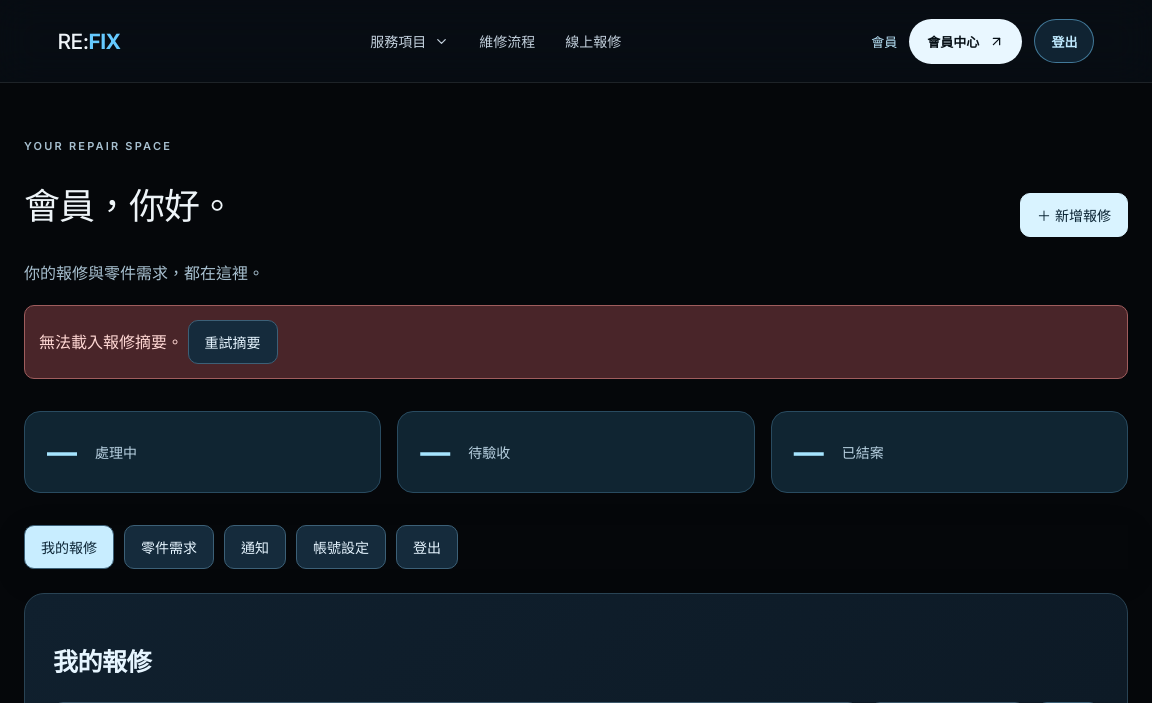
Test: shows a retry when summary loading fails and recovers without logging out
Expected: the text "無法載入報修摘要。" is shown, [39,332,183,352]
Click the button "重試摘要" at (232, 342), box [188,320,278,364]
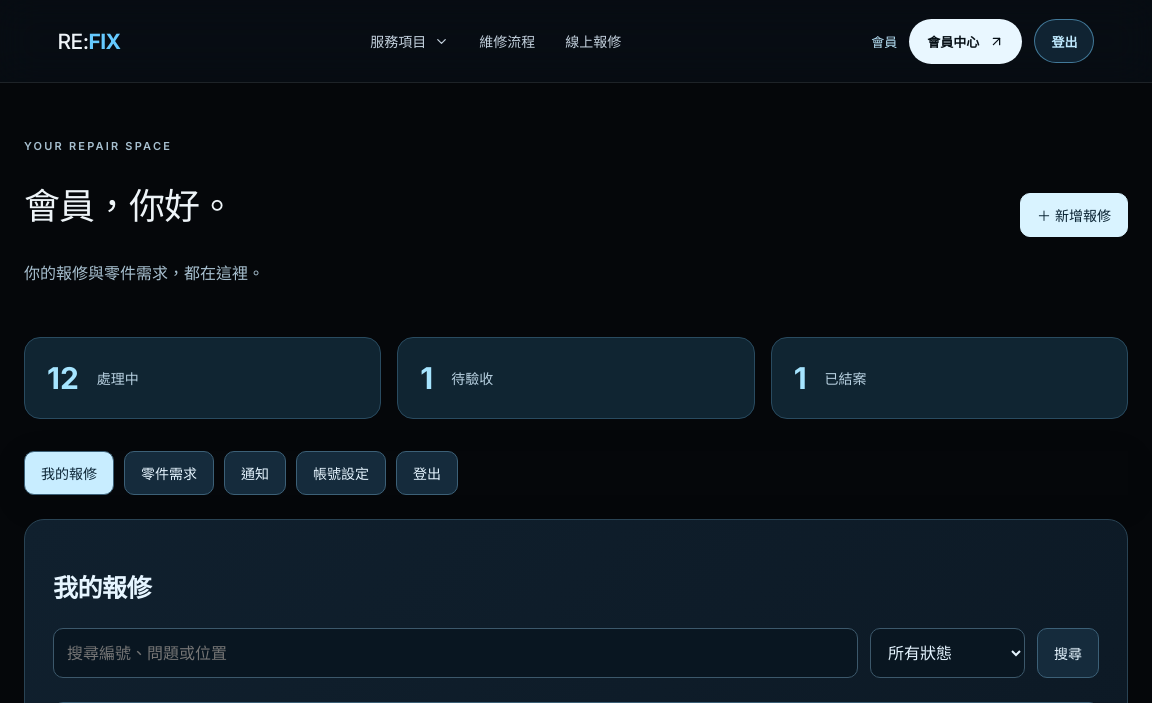
Now the button "12 處理中" is shown, box [24,336,381,418]
Now the text "無法載入報修摘要。" is gone
